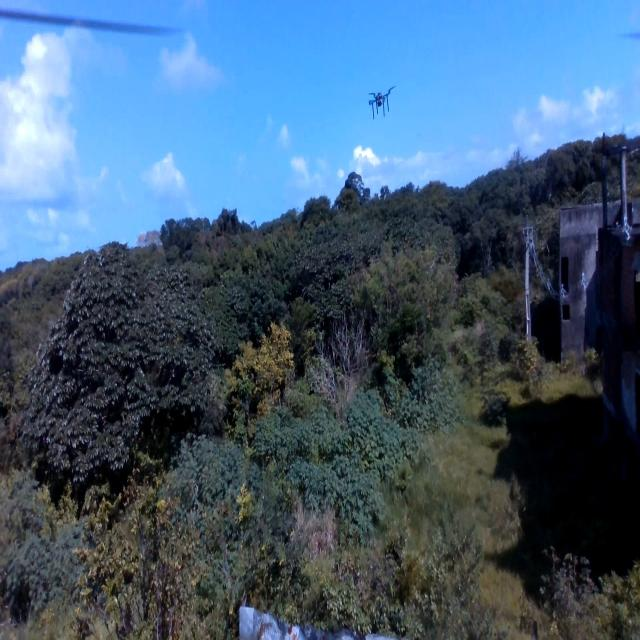-uav-: (362, 78, 398, 128)
